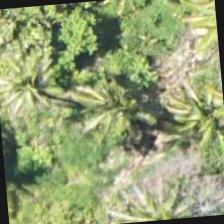Kelapa_Sawit: (64, 57, 162, 155), (0, 36, 76, 133), (156, 78, 223, 174)
